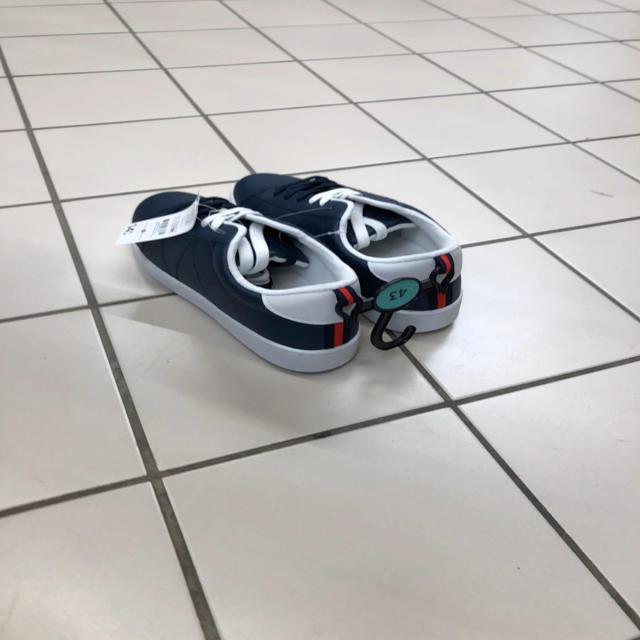shoe: (119, 193, 363, 377), (228, 174, 464, 349)
